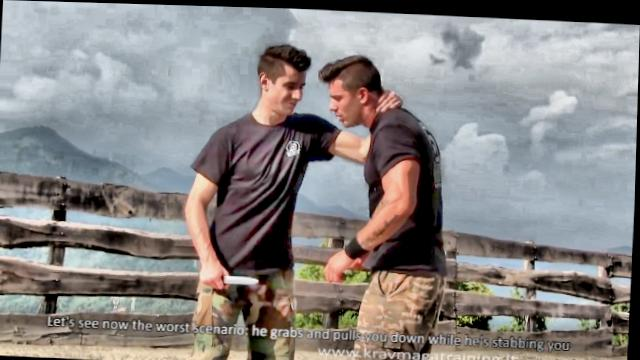knife: (197, 267, 261, 291)
